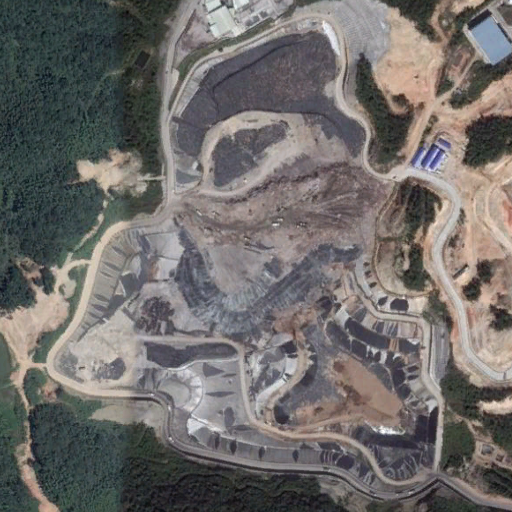lf: (46, 24, 451, 493)
